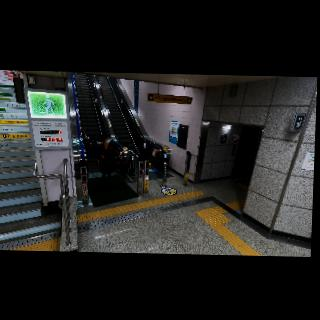anomaly: (80, 129, 104, 159)
normal: (95, 132, 125, 193)
